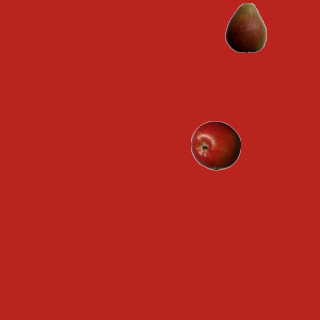Apple Braeburn: (190, 120, 240, 170)
Pear Forelle: (220, 2, 270, 52)
